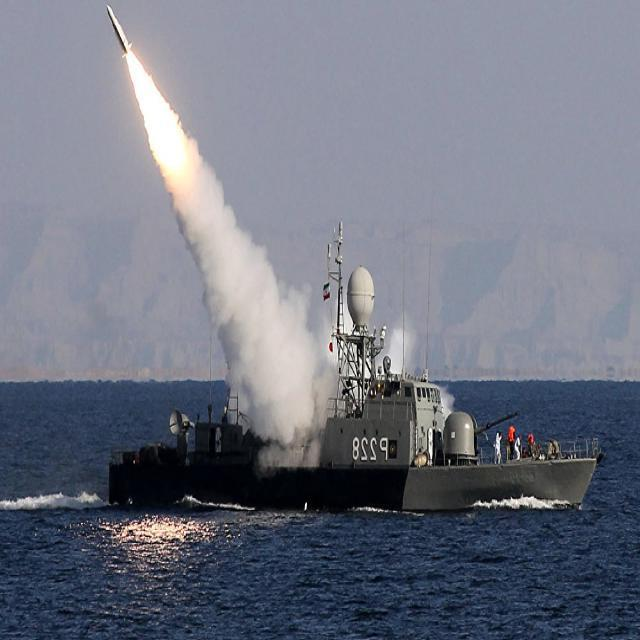missile: (102, 0, 134, 60)
